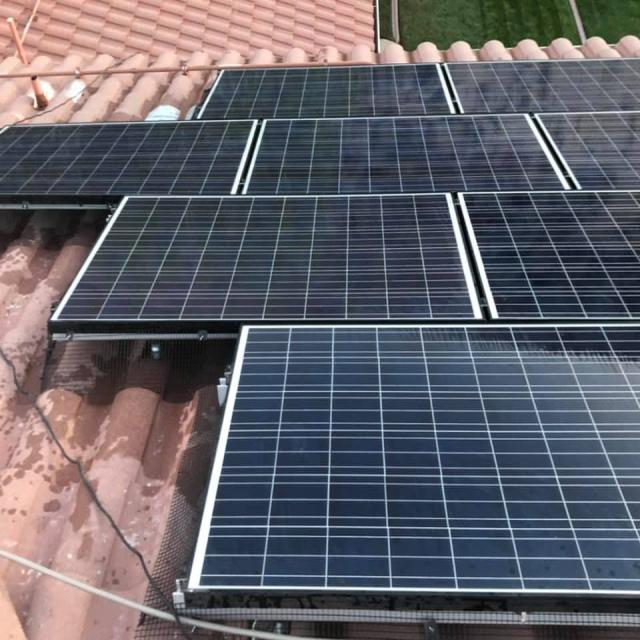clean-solar-panel: (0, 60, 640, 627)
